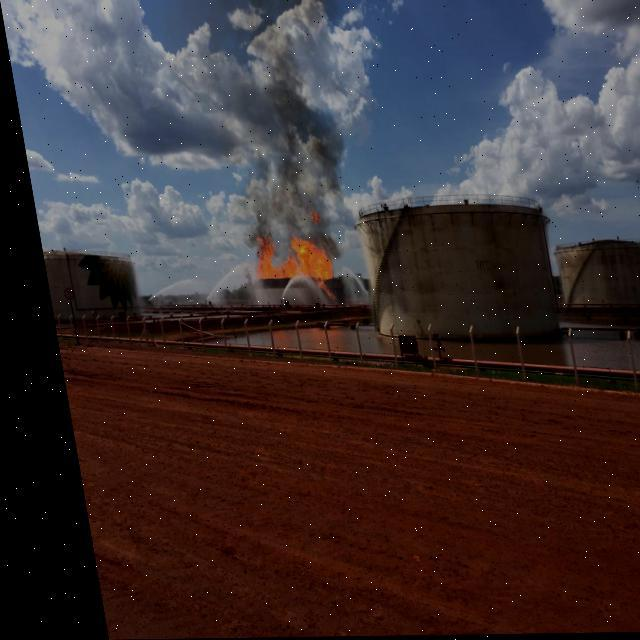Fire: (242, 234, 326, 298)
